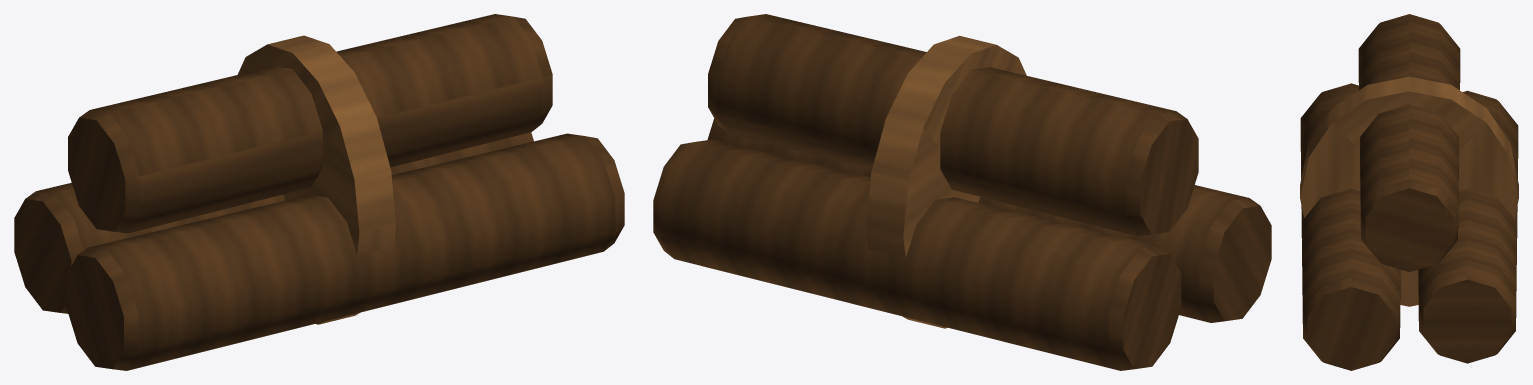
The model's file is underworld-resource-worldroot-timber.glb.
3 renders of one model, left to right at view 1: azimuth 30°, elevation 25°; view 2: azimuth 150°, elevation 25°; view 3: azimuth 270°, elevation 25°, orthographic. The views are drawn at different scales.
Parts seen in each view (by area): view 1: logs, band; view 2: logs, band; view 3: logs, band.
Part boxes in pixels (x1,y1,x2,y2): logs: (14, 14, 624, 370); band: (237, 35, 396, 324); logs: (653, 14, 1271, 370); band: (866, 35, 1026, 328); logs: (1300, 14, 1518, 370); band: (1300, 76, 1518, 306).
Bounding box in the file's own units: 0.82 × 0.41 × 0.3772.
2 materials, 2 textured.
